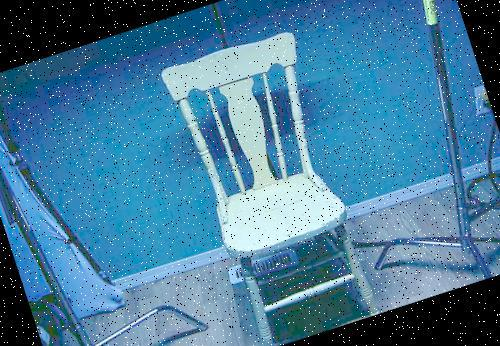Silla: (162, 29, 381, 345)
